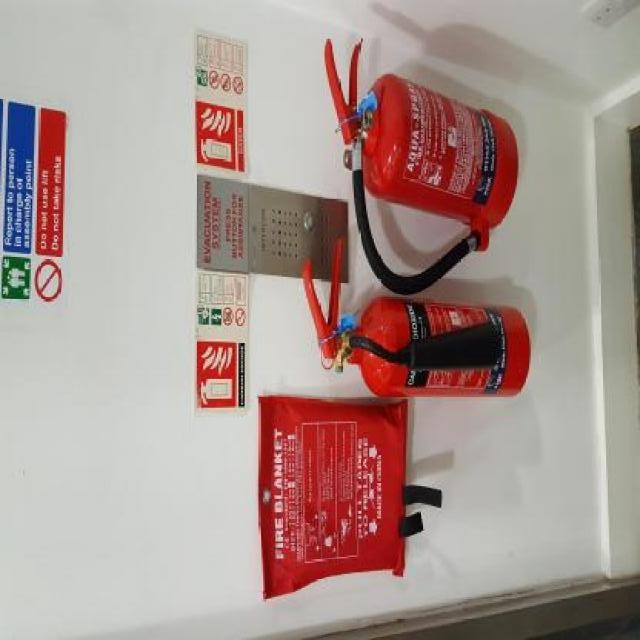fire extinguisher: (324, 37, 519, 295), (302, 237, 533, 406)
